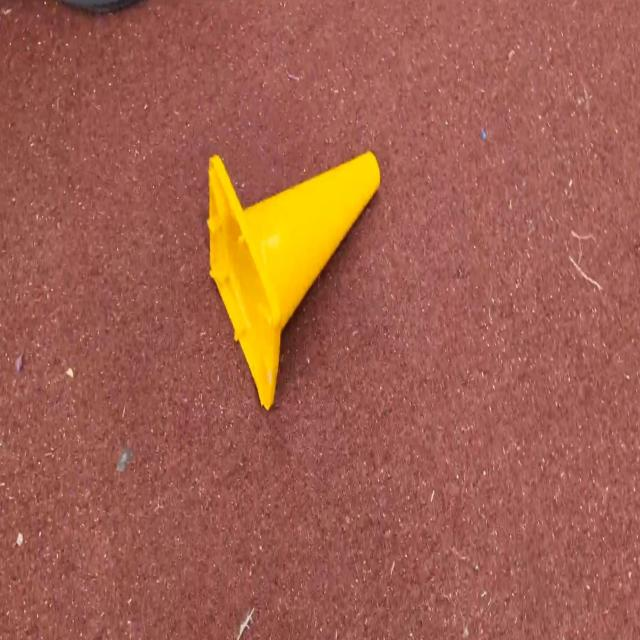frc_cone: (208, 153, 381, 409)
